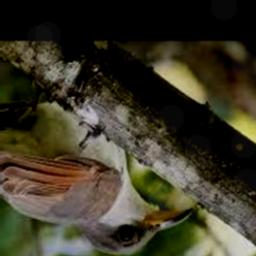Cuckoo: (0, 89, 194, 256)
